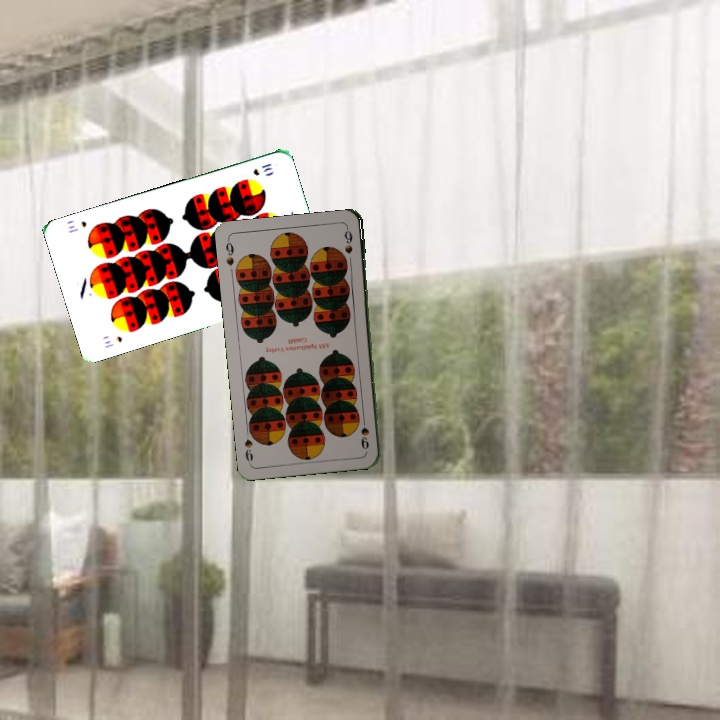S10: (249, 159, 275, 178), (100, 332, 125, 351)
S9: (358, 412, 371, 452), (222, 236, 237, 268)
